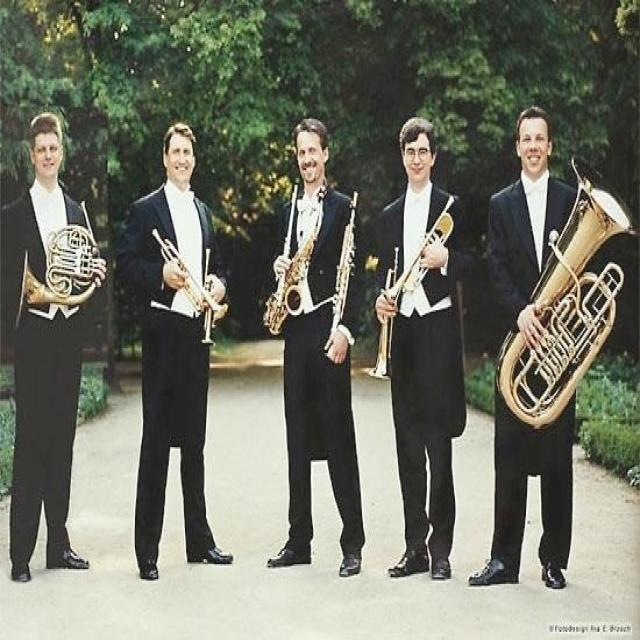saxophone: (260, 181, 318, 343)
